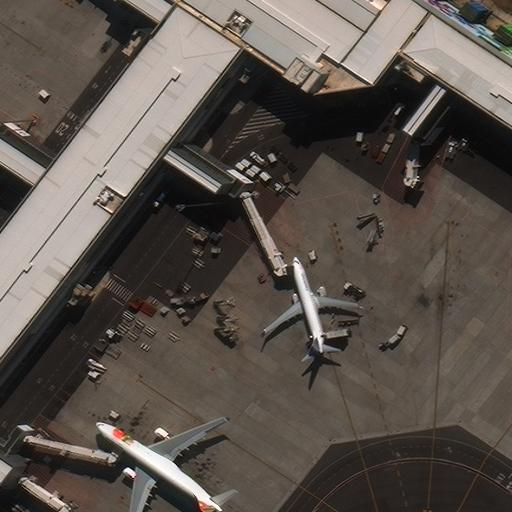Large Civil Transport: (95, 416, 220, 512)
Medium Civil Transport: (264, 256, 356, 355)
